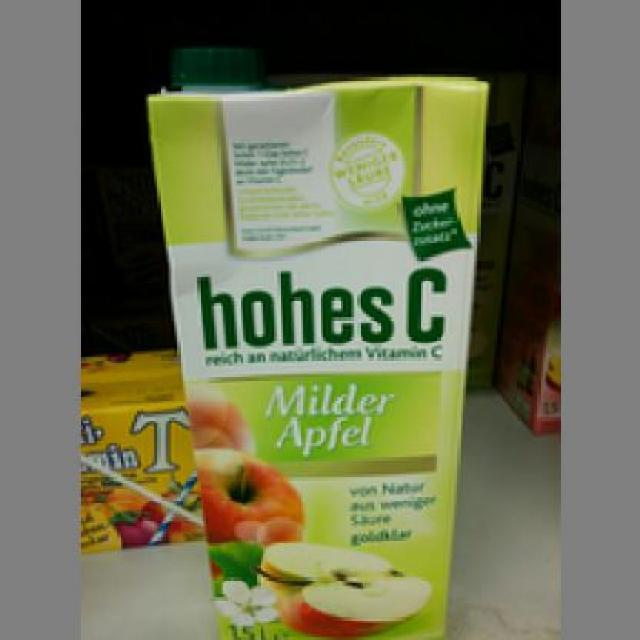Juice: (140, 37, 489, 637)
